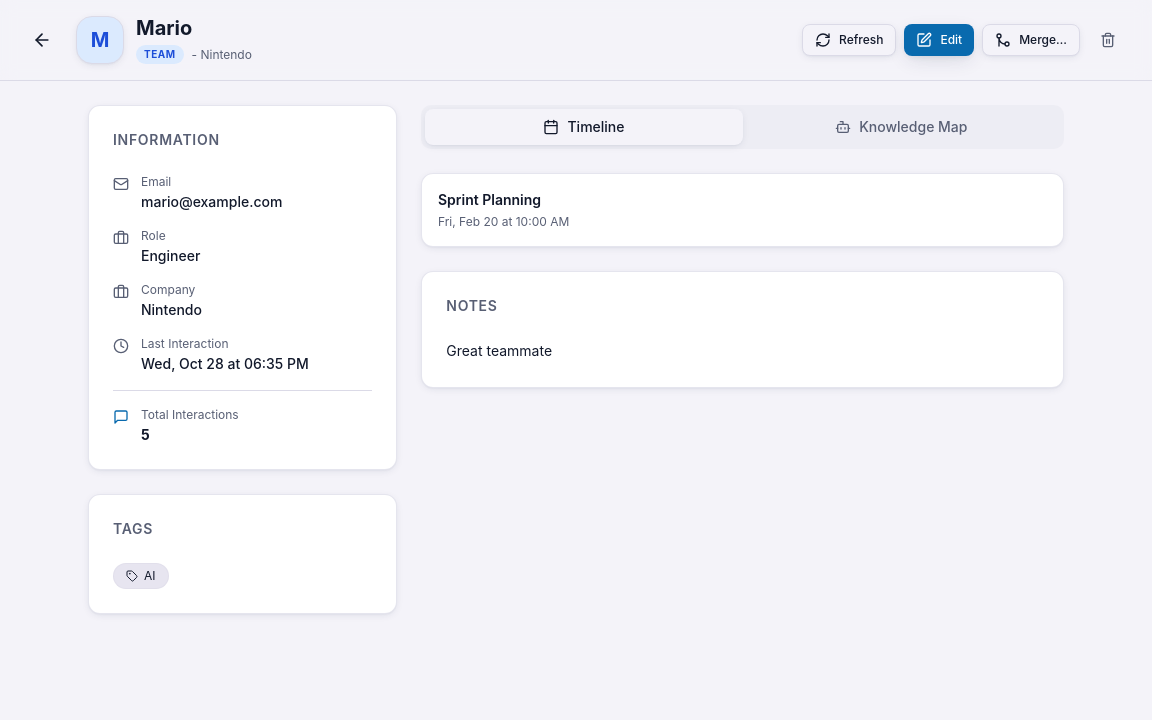
PersonDetail Page › should enter edit mode and show form fields
Check: the heading "Mario" is shown, box [136, 16, 192, 40]
# Click Edit button
Click the button "Edit" at x=939, y=40, box [904, 24, 974, 56]
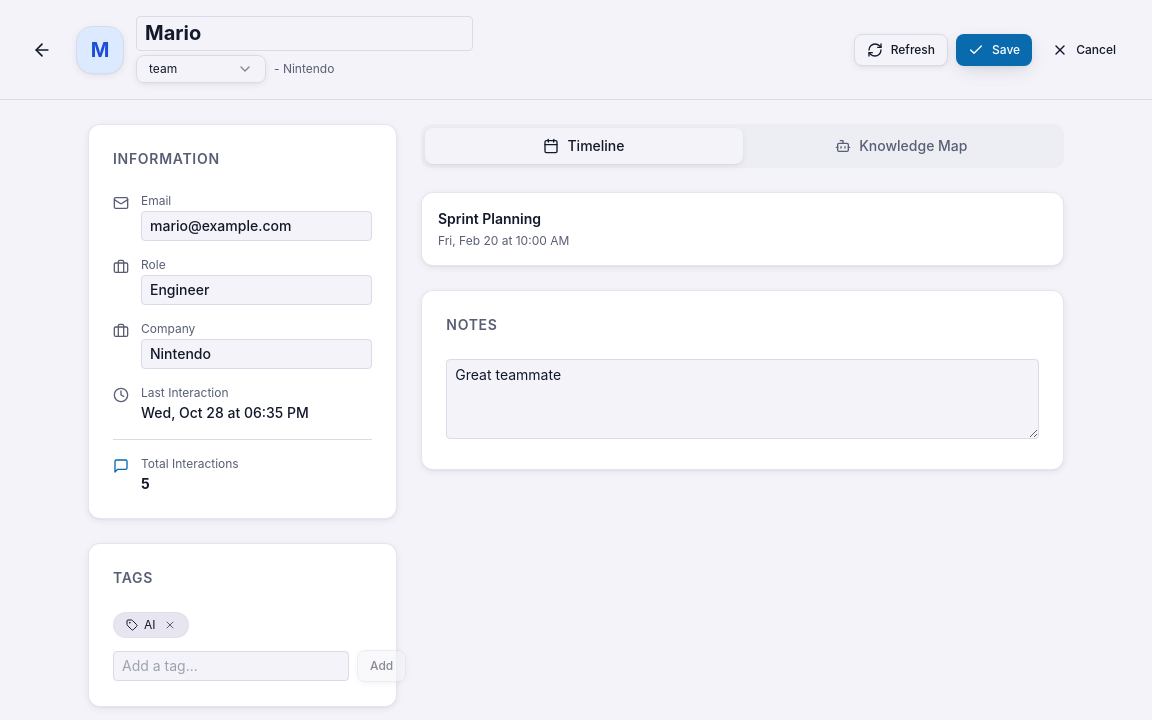
Check: the button "Save" is shown, box [956, 34, 1032, 66]
Check: the button "Cancel" is shown, box [1040, 34, 1128, 66]
